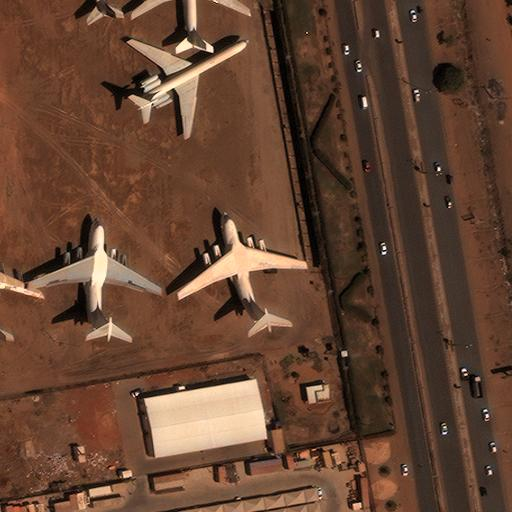Large Civil Transport: (130, 0, 249, 48), (0, 253, 42, 333)
Military Transport: (28, 218, 162, 341), (177, 210, 306, 332), (132, 38, 249, 137)
